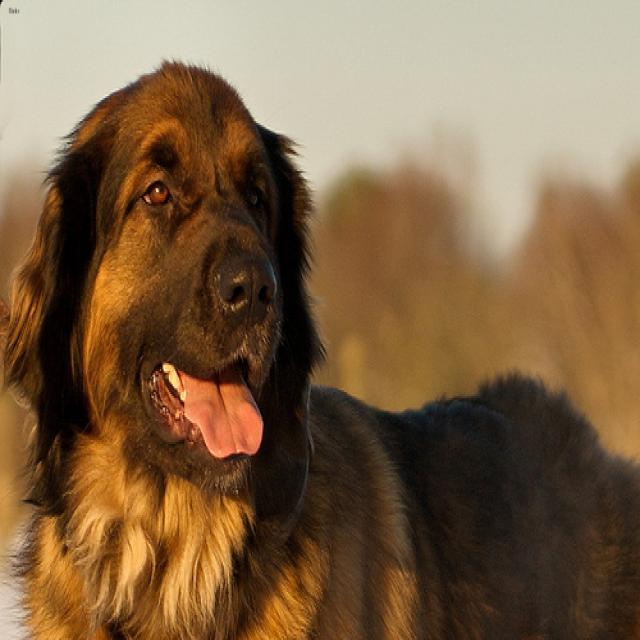dog-leonberger: (1, 40, 637, 636)
